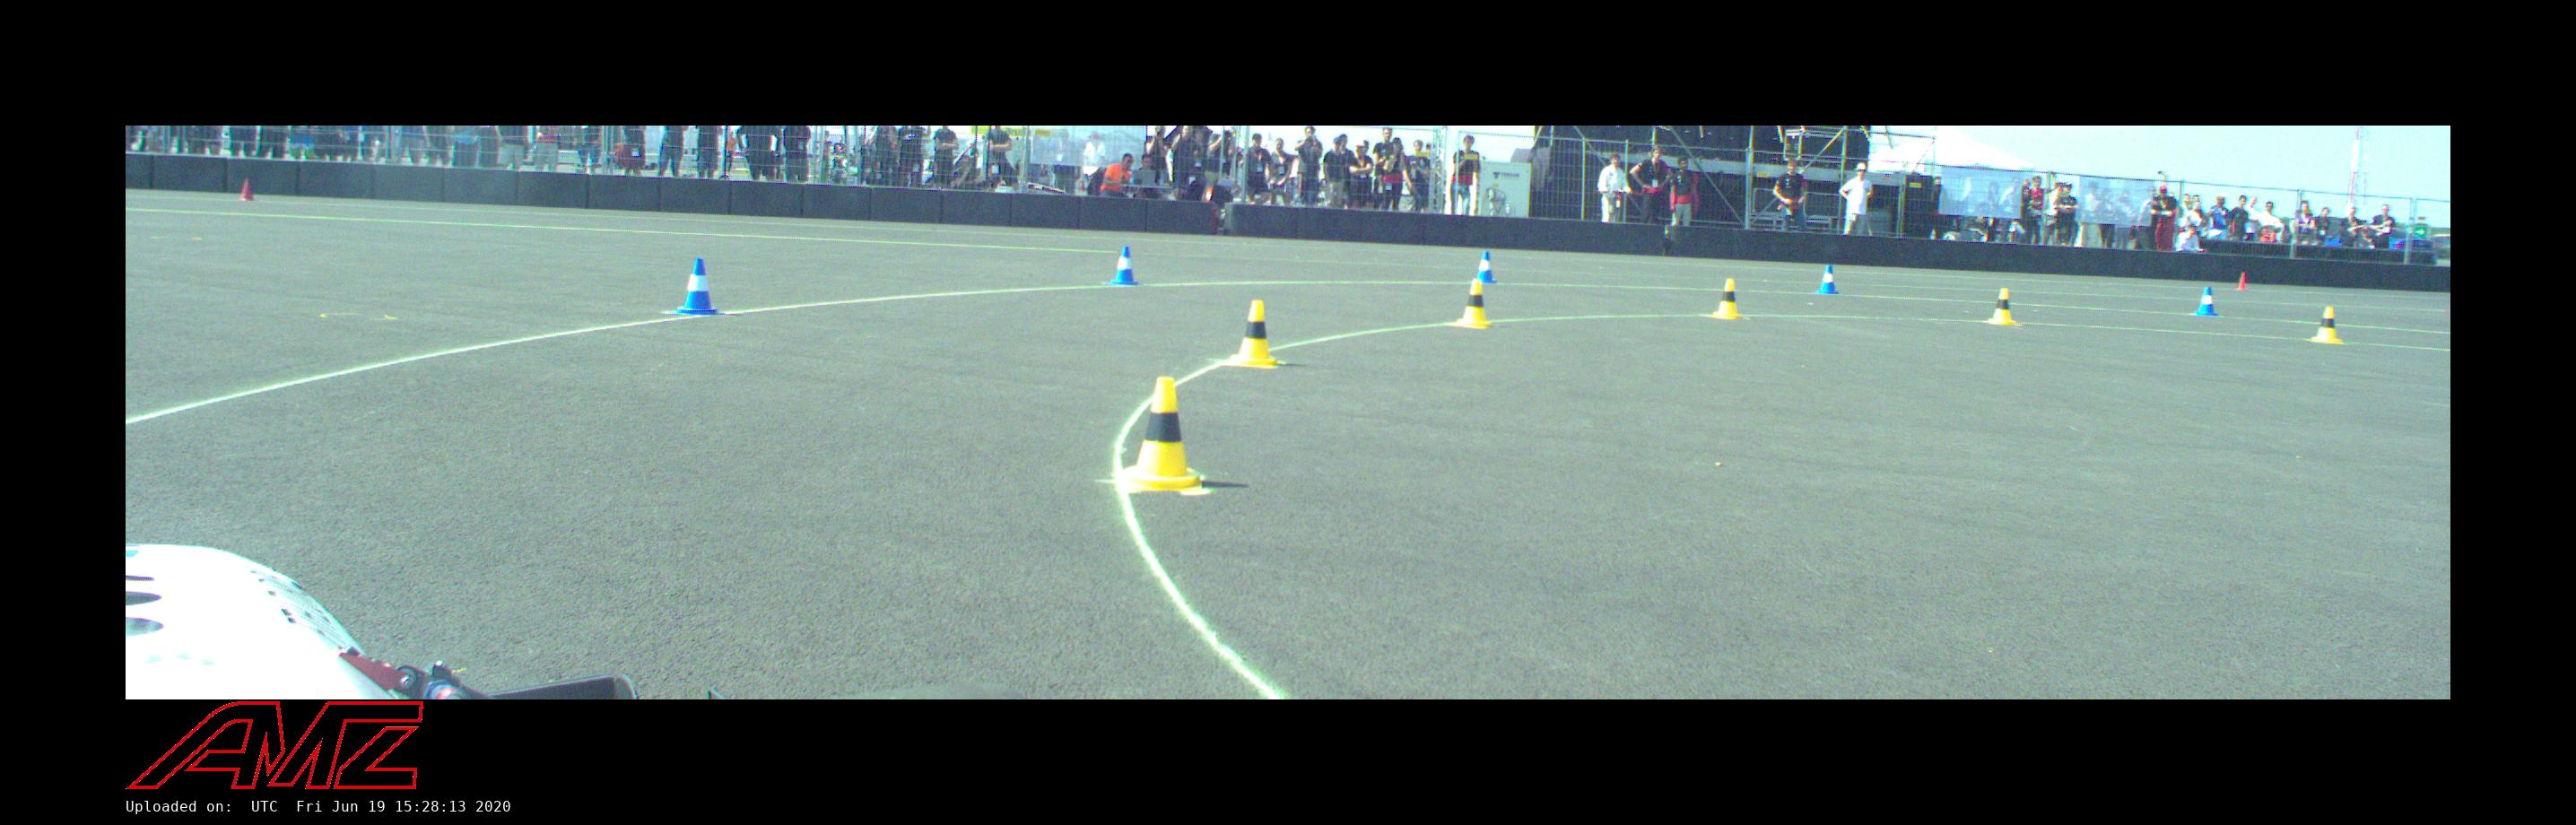blue_cone: (672, 258, 721, 316), (1109, 247, 1140, 286), (2195, 286, 2219, 316), (1817, 265, 1840, 294), (1479, 251, 1498, 283)
unknown_cone: (238, 179, 255, 202), (2233, 273, 2249, 289)
yellow_cone: (1114, 376, 1207, 493), (1227, 299, 1281, 368), (1454, 279, 1492, 329), (1710, 278, 1745, 319), (2310, 307, 2343, 343), (1986, 288, 2017, 325)
